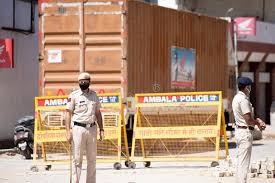mask: (236, 74, 252, 99), (77, 73, 92, 92)
